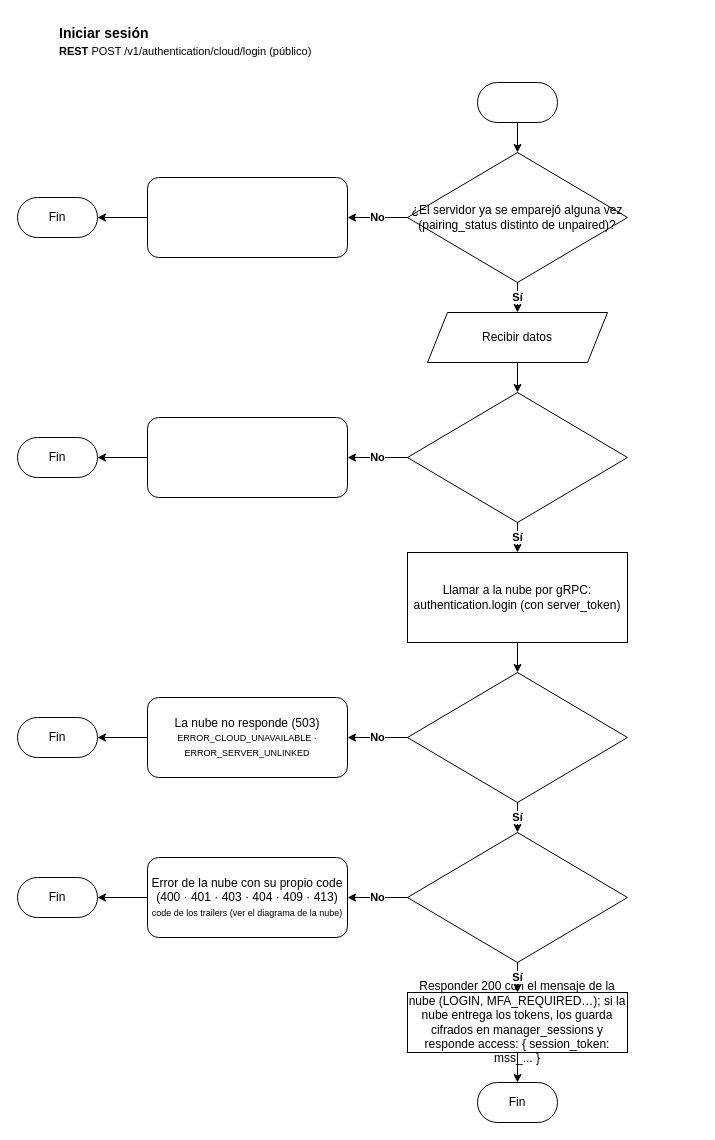
Some shapes in this 715 by 1140 pixel diagram are drawn without their labels. Here are the shapes that lost their labels. From the top down, the centre of each, then its label:
(x=517, y=102): Inicio
(x=247, y=217): Servidor sin emparejar (409) ERROR_SERVER_NOT_PAIRED
(x=247, y=457): Datos inválidos (400) ERROR_BAD_REQUEST
(x=517, y=457): ¿Los datos son válidos?
(x=517, y=737): ¿La nube responde antes de 10 s?
(x=517, y=897): ¿La nube acepta la petición?
